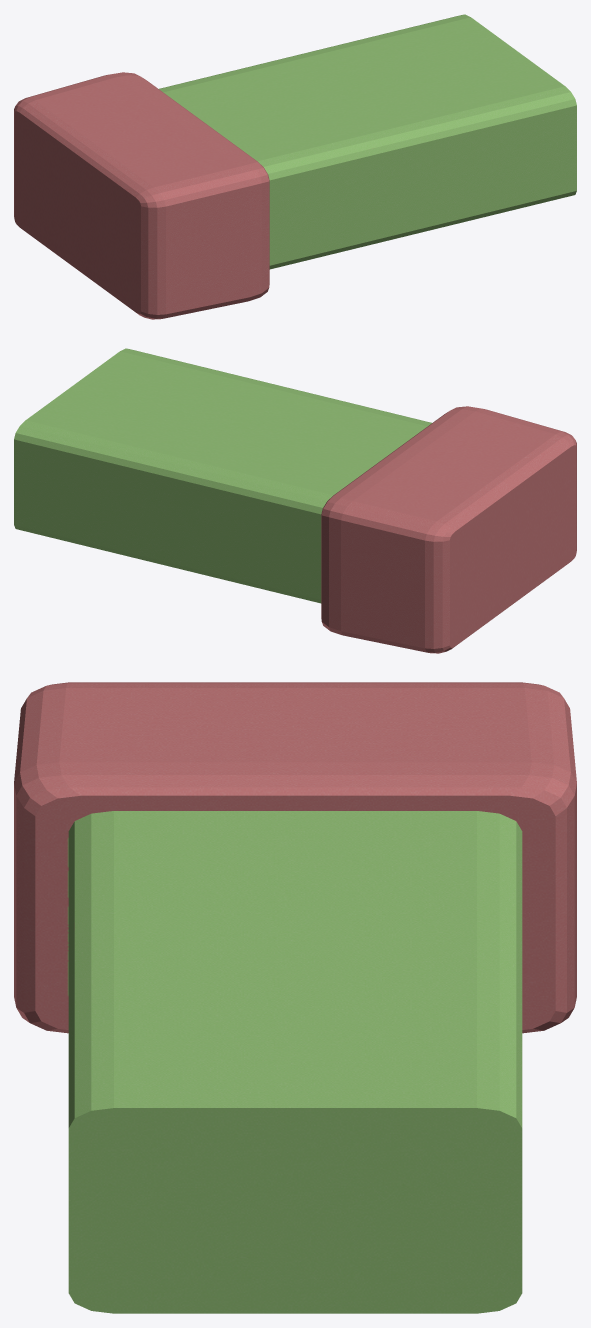
The model's file is OBS0110285.fbx.
The picture shows the model from 3 angles, top to bottom: view 1: azimuth 30°, elevation 25°; view 2: azimuth 150°, elevation 25°; view 3: azimuth 270°, elevation 25°; orthographic projection. The views are drawn at different scales.
Parts seen in each view (by area): view 1: smOBS0110285; view 2: smOBS0110285; view 3: smOBS0110285.
Part boxes in pixels (left/top/right/bottom): smOBS0110285: left=14, top=14, right=576, bottom=319; smOBS0110285: left=14, top=348, right=576, bottom=653; smOBS0110285: left=14, top=682, right=576, bottom=1313.
Bounding box in the file's own units: 116 × 33.34 × 66.68.
Materials: 1 (1 with a texture image).
